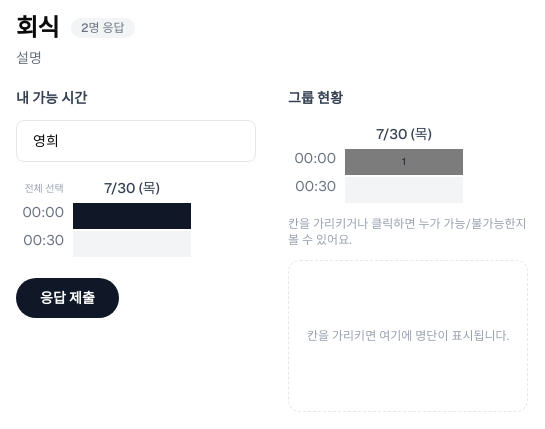
Test case: PollView (unsaved changes, FR-17) › flags edits that differ from the saved response, and clears when reverted
The image size is (545, 429).
Press the mouse on the checkbox named "slot-s2" at point(132, 244), box [72, 230, 192, 258]
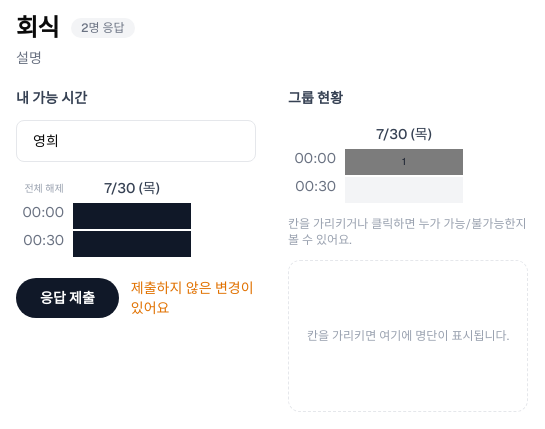
Expected: the text "제출하지 않은 변경이 있어요" is shown, [131, 278, 256, 318]
Press the mouse on the checkbox named "slot-s2" at point(132, 244), box [72, 230, 192, 258]
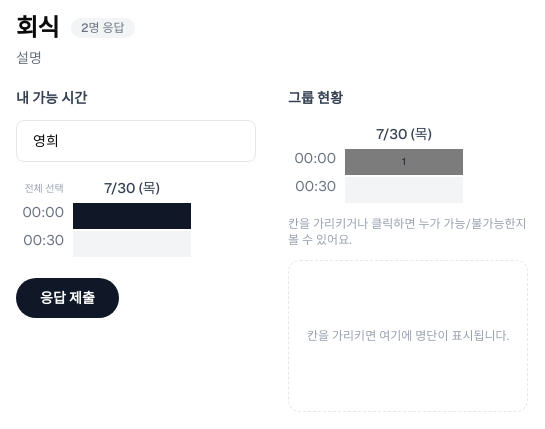
Expected: the text "제출하지 않은 변경이 있어요" is gone
